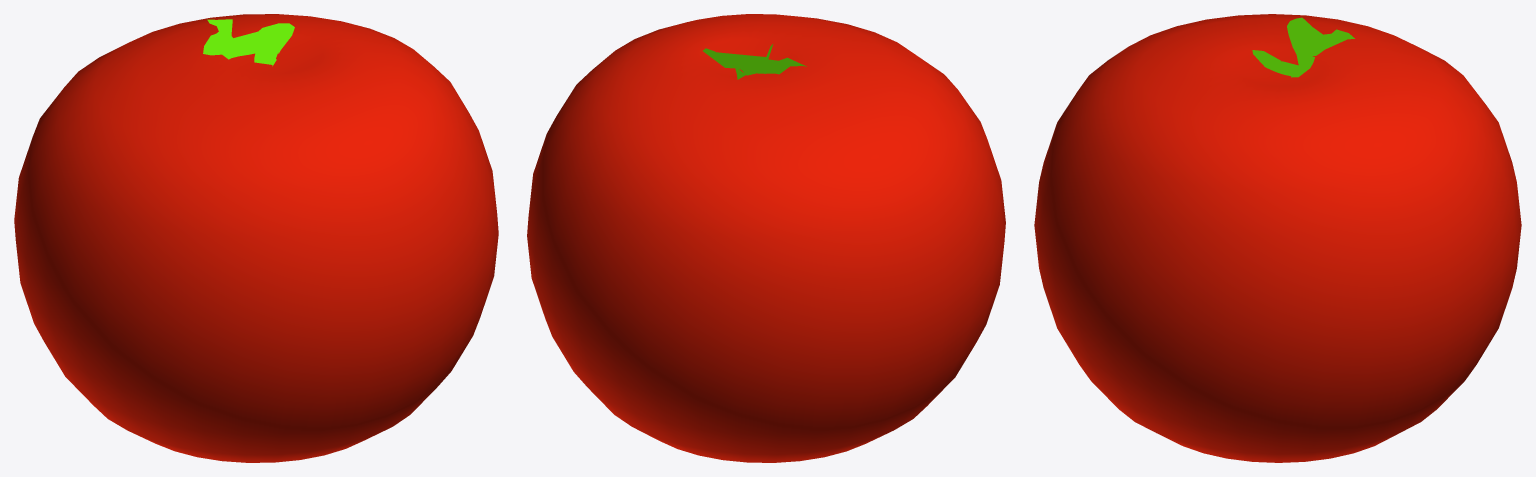
The model's file is tomatoball.gltf.
3 views of the same model, side by side, from view 1: azimuth 30°, elevation 25°; view 2: azimuth 150°, elevation 25°; view 3: azimuth 270°, elevation 25° (orthographic).
Parts seen in each view (by area): view 1: Sphere, Circle; view 2: Sphere, Circle; view 3: Sphere, Circle.
Boxes of the visible parts, left/top/right/bottom form: Sphere: left=14, top=14, right=498, bottom=462; Circle: left=203, top=19, right=294, bottom=66; Sphere: left=527, top=14, right=1005, bottom=462; Circle: left=703, top=44, right=806, bottom=79; Sphere: left=1034, top=14, right=1521, bottom=462; Circle: left=1252, top=17, right=1354, bottom=77.
Bounding box in the file's own units: 0.022 × 0.0188 × 0.022.
